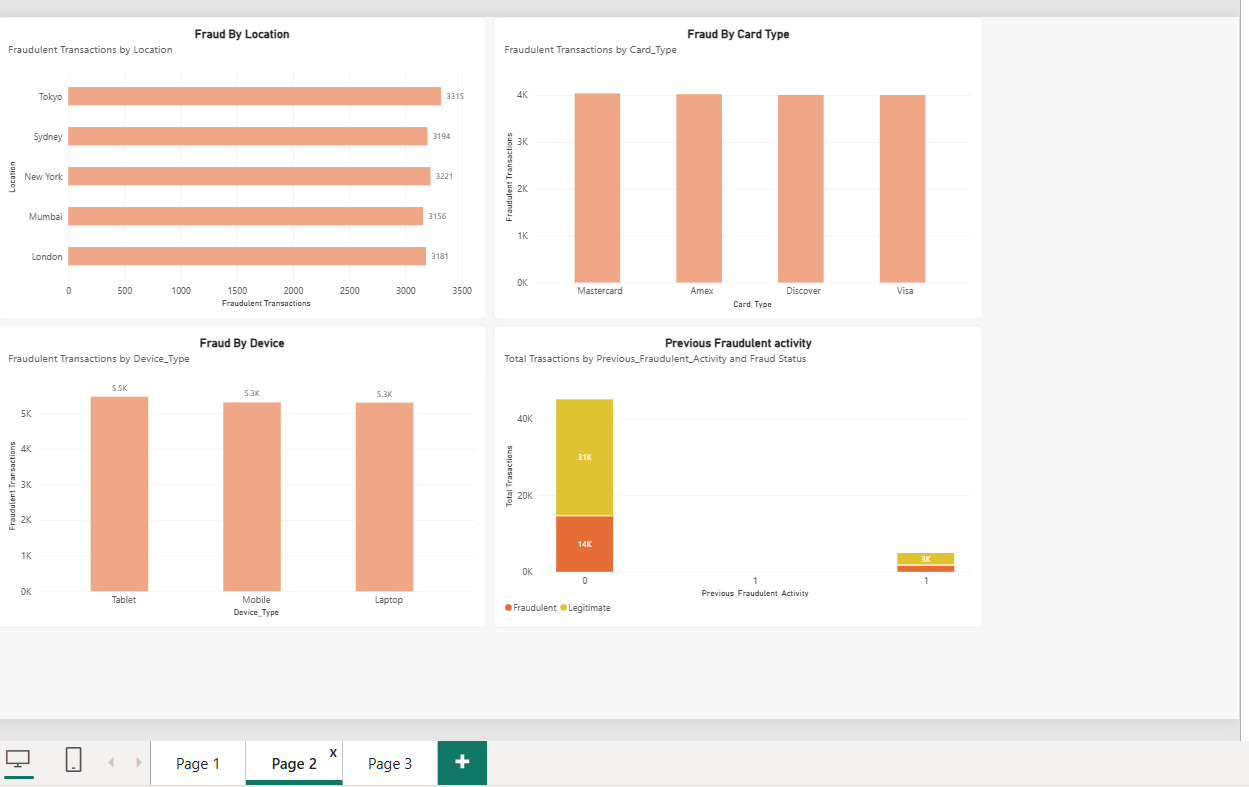

Layout of this report page (visuals, bound fields, positions):
{"tool":"powerbi","page":{"name":"Page 2","canvas":[1920,1080],"ordinal":1},"visuals":[{"type":"clusteredBarChart","title":"Fraud By Location","fields":{"Category":["synthetic_fraud_dataset1 (2).Location"],"Y":["synthetic_fraud_dataset1 (2).Fraudulent Transactions"]},"box":[9.6,0,751.7,464.8],"z":0},{"type":"clusteredColumnChart","title":"Fraud By Device","fields":{"Category":["synthetic_fraud_dataset1 (2).Device_Type"],"Y":["synthetic_fraud_dataset1 (2).Fraudulent Transactions"]},"box":[10,475,752,465],"z":1000},{"type":"columnChart","title":"Fraud By Card Type","fields":{"Category":["synthetic_fraud_dataset1 (2).Card_Type"],"Y":["synthetic_fraud_dataset1 (2).Fraudulent Transactions"]},"box":[772,0,752,465],"z":2000},{"type":"columnChart","title":"Previous Fraudulent activity ","fields":{"Category":["synthetic_fraud_dataset1 (2).Previous_Fraudulent_Activity"],"Series":["synthetic_fraud_dataset1 (2).Fraud Status"],"Y":["synthetic_fraud_dataset1 (2).Total Trasactions"]},"box":[772,475,752,465],"z":2001}]}

Visuals, with their boxes on the page's 1920x1080 design canvas (x1, y1, x2, y2). These are canvas units, not pixel positions in the 1249x787 screenshot, which may show the page scaled, cropped or inside an application window:
"Fraud By Location" clusteredBarChart: [10,0,761,465]
"Fraud By Device" clusteredColumnChart: [10,475,762,940]
"Fraud By Card Type" columnChart: [772,0,1524,465]
"Previous Fraudulent activity " columnChart: [772,475,1524,940]
